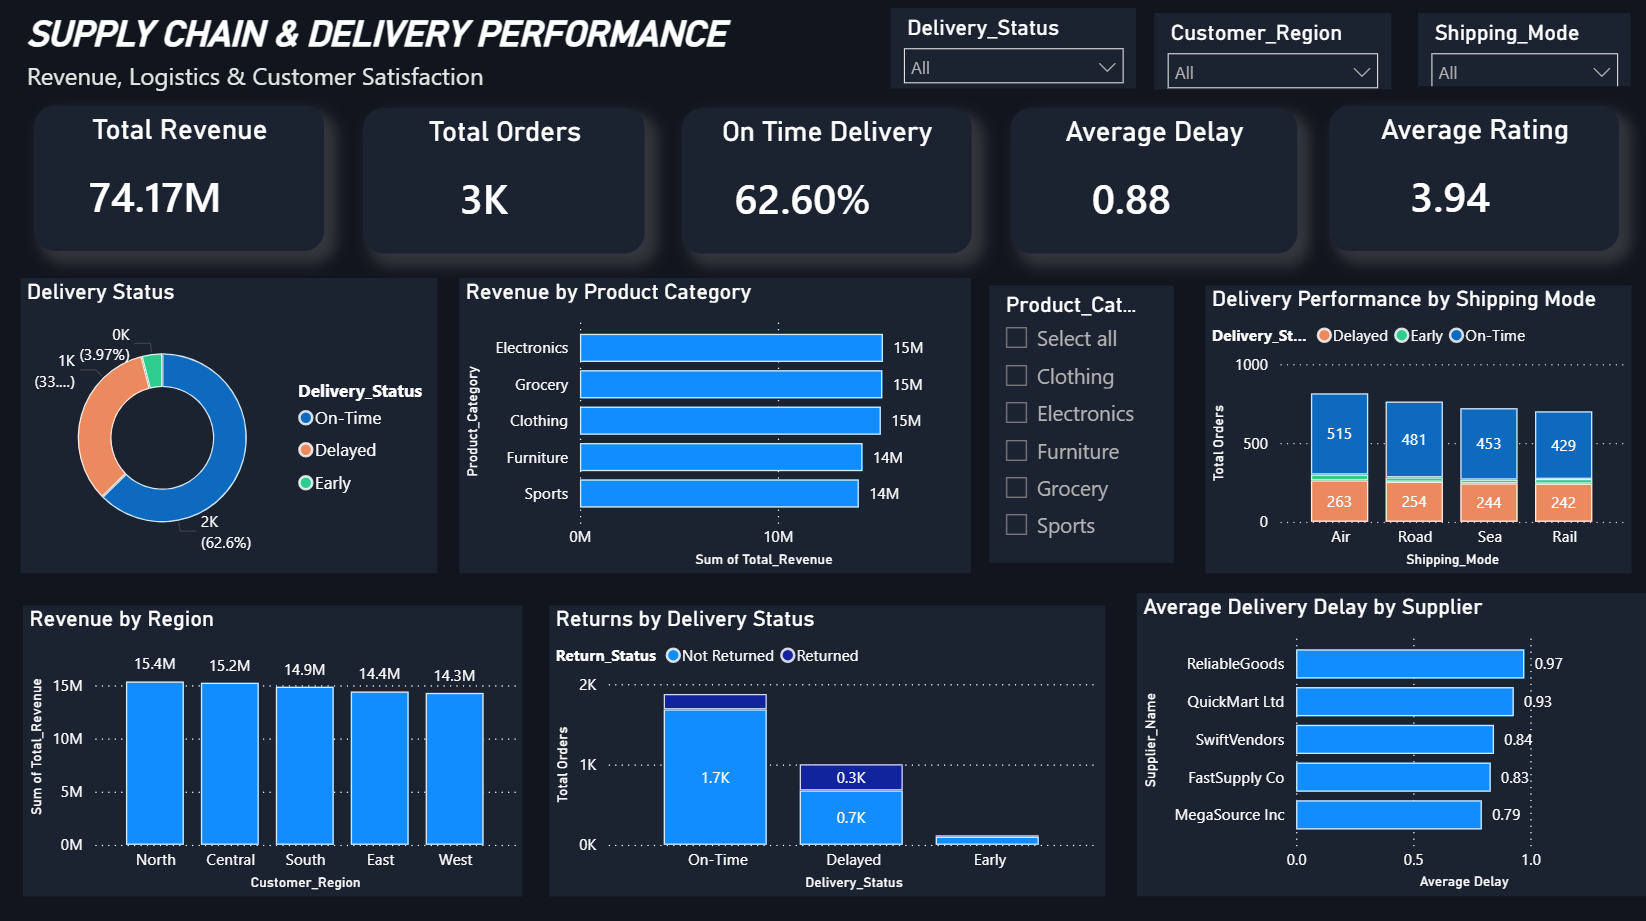

What the dashboard file says about the page in this screenshot:
{"tool":"powerbi","page":{"name":"Page 1","canvas":[1280,720],"ordinal":0},"visuals":[{"type":"cardVisual","title":"Total Revenue","fields":{"Data":["supply_chain_analysis.Total Revenue"]},"box":[27.9,83.7,224.4,112.8],"z":0},{"type":"cardVisual","title":"Total Orders","fields":{"Data":["supply_chain_analysis.Total Orders"]},"box":[282.6,84.9,218.6,112.8],"z":1000},{"type":"cardVisual","title":"On Time Delivery","fields":{"Data":["supply_chain_analysis.On-Time Delivery %"]},"box":[530.2,84.9,224.4,112.8],"z":2000},{"type":"cardVisual","title":"Average Delay","fields":{"Data":["supply_chain_analysis.Average Delay"]},"box":[784.9,84.9,222.1,112.8],"z":3000},{"type":"cardVisual","title":"Average Rating","fields":{"Data":["supply_chain_analysis.Average Rating"]},"box":[1032.6,83.7,224.4,112.8],"z":4000},{"type":"clusteredColumnChart","title":"Revenue by Region","fields":{"Category":["supply_chain_analysis.Customer_Region"],"Y":["Sum(supply_chain_analysis.Total_Revenue)"]},"box":[19.8,470.9,387.2,225.6],"z":5000},{"type":"barChart","title":"Revenue by Product Category ","fields":{"Y":["Sum(supply_chain_analysis.Total_Revenue)"],"Category":["supply_chain_analysis.Product_Category"]},"box":[358.1,217.4,396.5,229.1],"z":6000},{"type":"donutChart","title":"Delivery Status","fields":{"Category":["supply_chain_analysis.Delivery_Status"],"Y":["supply_chain_analysis.Total Orders"]},"box":[17.4,217.4,323.3,229.1],"z":7000},{"type":"columnChart","title":"Returns by Delivery Status","fields":{"Category":["supply_chain_analysis.Delivery_Status"],"Series":["supply_chain_analysis.Return_Status"],"Y":["supply_chain_analysis.Total Orders"]},"box":[427.9,470.9,431.4,225.6],"z":8000},{"type":"clusteredBarChart","title":"Average Delivery Delay by Supplier","fields":{"Category":["supply_chain_analysis.Supplier_Name"],"Y":["supply_chain_analysis.Average Delay"]},"box":[882.6,461.6,397.7,234.9],"z":9000},{"type":"columnChart","title":"Delivery Performance by Shipping Mode","fields":{"Category":["supply_chain_analysis.Shipping_Mode"],"Series":["supply_chain_analysis.Delivery_Status"],"Y":["supply_chain_analysis.Total Orders"]},"box":[936,223.3,330.2,223.3],"z":10000},{"type":"slicer","fields":{"Values":["supply_chain_analysis.Customer_Region"]},"box":[896.5,11.6,183.7,59.3],"z":11000},{"type":"slicer","fields":{"Values":["supply_chain_analysis.Product_Category"]},"box":[768.6,223.3,143,215.1],"z":12000},{"type":"slicer","fields":{"Values":["supply_chain_analysis.Shipping_Mode"]},"box":[1101.2,11.6,165.1,57],"z":13000},{"type":"slicer","fields":{"Values":["supply_chain_analysis.Delivery_Status"]},"box":[691.9,8.1,190.7,62.8],"z":14000},{"type":"textbox","title":"SUPPLY CHAIN & DELIVERY PERFORMANCE","box":[17.4,11.6,657,62.8],"z":15000}]}

Visuals, with their boxes in screenshot pixels (x1, y1, x2, y2), scaled from the page's 1280x720 canvas onto the 1646x921 screenshot:
"Total Revenue" cardVisual: detection(36, 107, 324, 251)
"Total Orders" cardVisual: detection(363, 109, 645, 253)
"On Time Delivery" cardVisual: detection(682, 109, 970, 253)
"Average Delay" cardVisual: detection(1009, 109, 1295, 253)
"Average Rating" cardVisual: detection(1328, 107, 1616, 251)
"Revenue by Region" clusteredColumnChart: detection(25, 602, 523, 891)
"Revenue by Product Category " barChart: detection(460, 278, 970, 571)
"Delivery Status" donutChart: detection(22, 278, 438, 571)
"Returns by Delivery Status" columnChart: detection(550, 602, 1105, 891)
"Average Delivery Delay by Supplier" clusteredBarChart: detection(1135, 590, 1645, 891)
"Delivery Performance by Shipping Mode" columnChart: detection(1204, 286, 1628, 571)
slicer - supply_chain_analysis.Customer_Region: detection(1153, 15, 1389, 91)
slicer - supply_chain_analysis.Product_Category: detection(988, 286, 1172, 561)
slicer - supply_chain_analysis.Shipping_Mode: detection(1416, 15, 1628, 88)
slicer - supply_chain_analysis.Delivery_Status: detection(890, 10, 1135, 91)
"SUPPLY CHAIN & DELIVERY PERFORMANCE" textbox: detection(22, 15, 867, 95)
